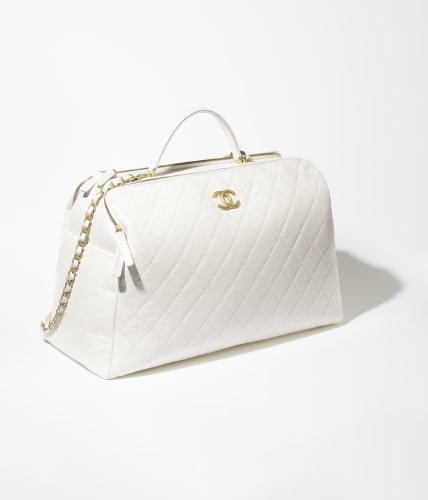channel: (29, 124, 355, 390), (65, 179, 120, 327), (205, 176, 253, 228)
